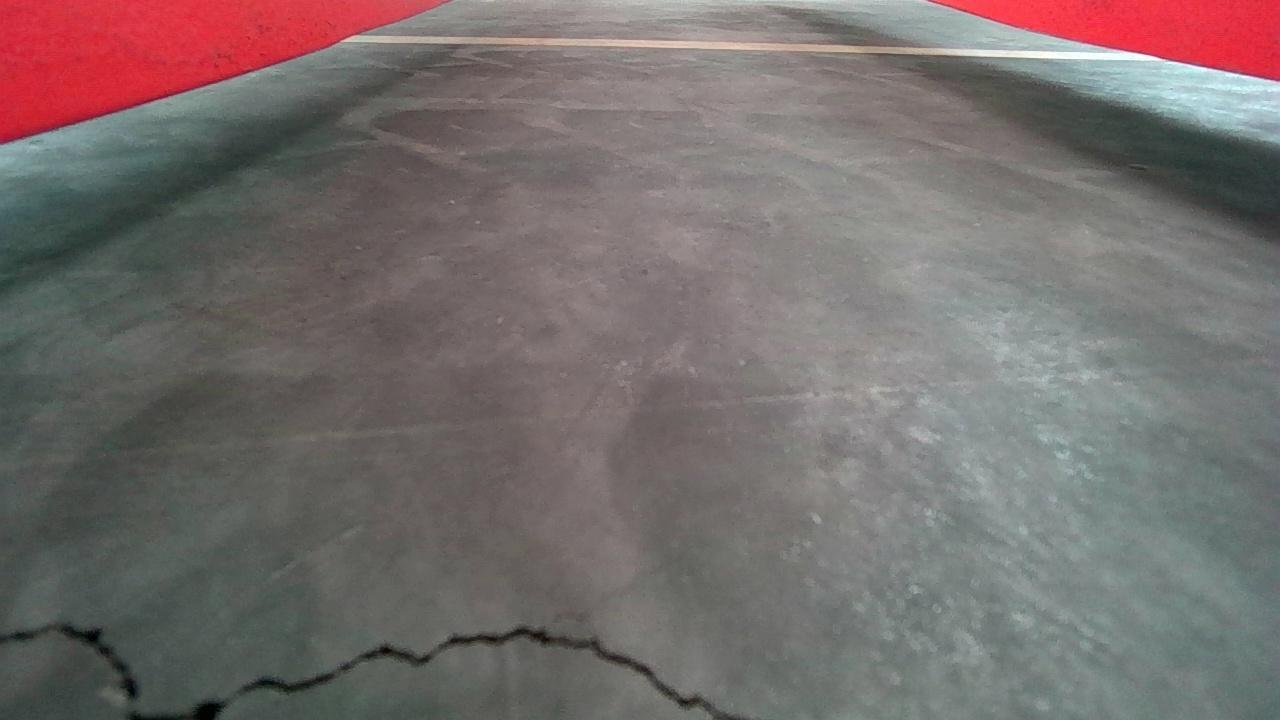yellow_line: (341, 31, 1163, 59)
